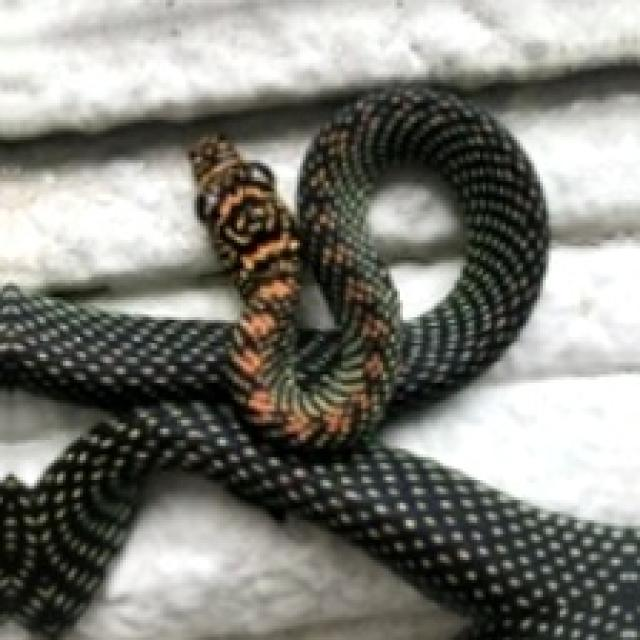paradise tree snake: (0, 89, 637, 637), (191, 89, 546, 446), (363, 160, 466, 323), (363, 163, 466, 320)
